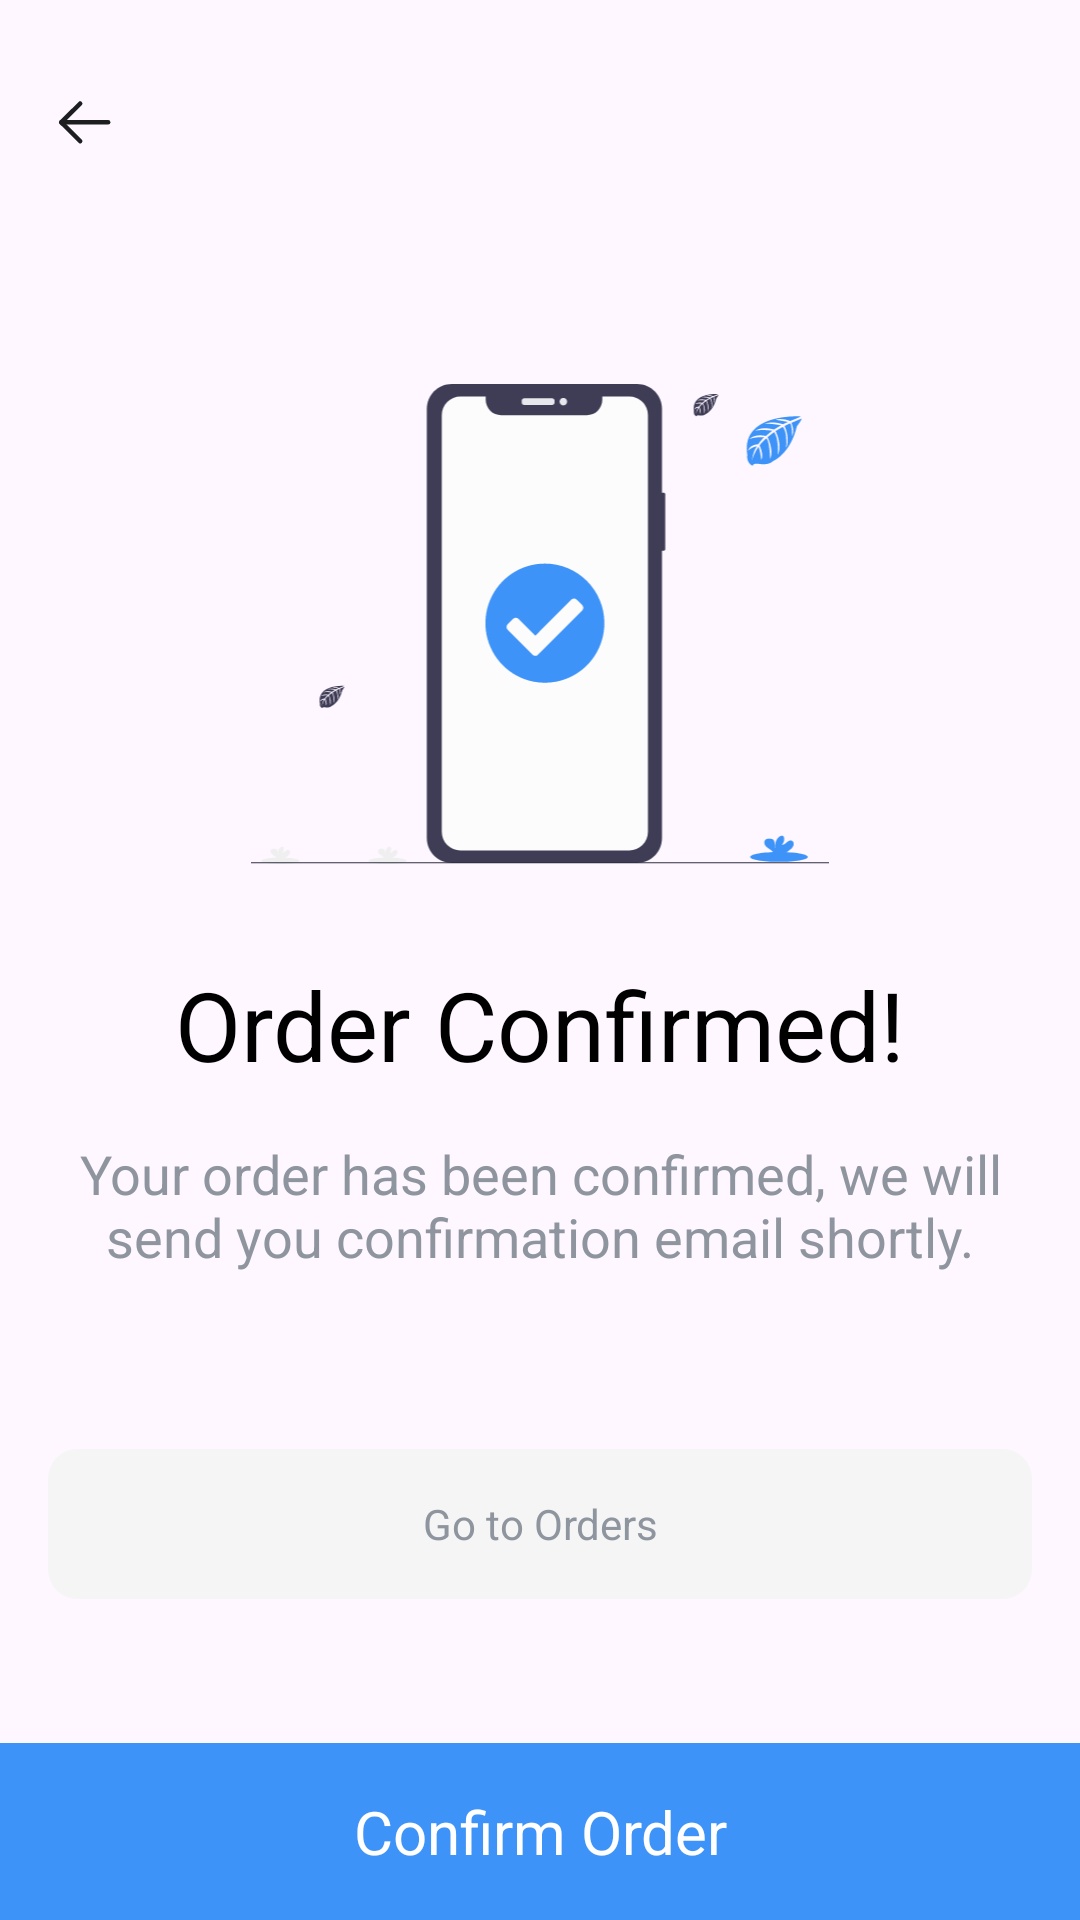

Where icons sit on this 1080×1920 app screen, as (x1, y1, x2, y2):
back: (59, 101, 111, 144)
